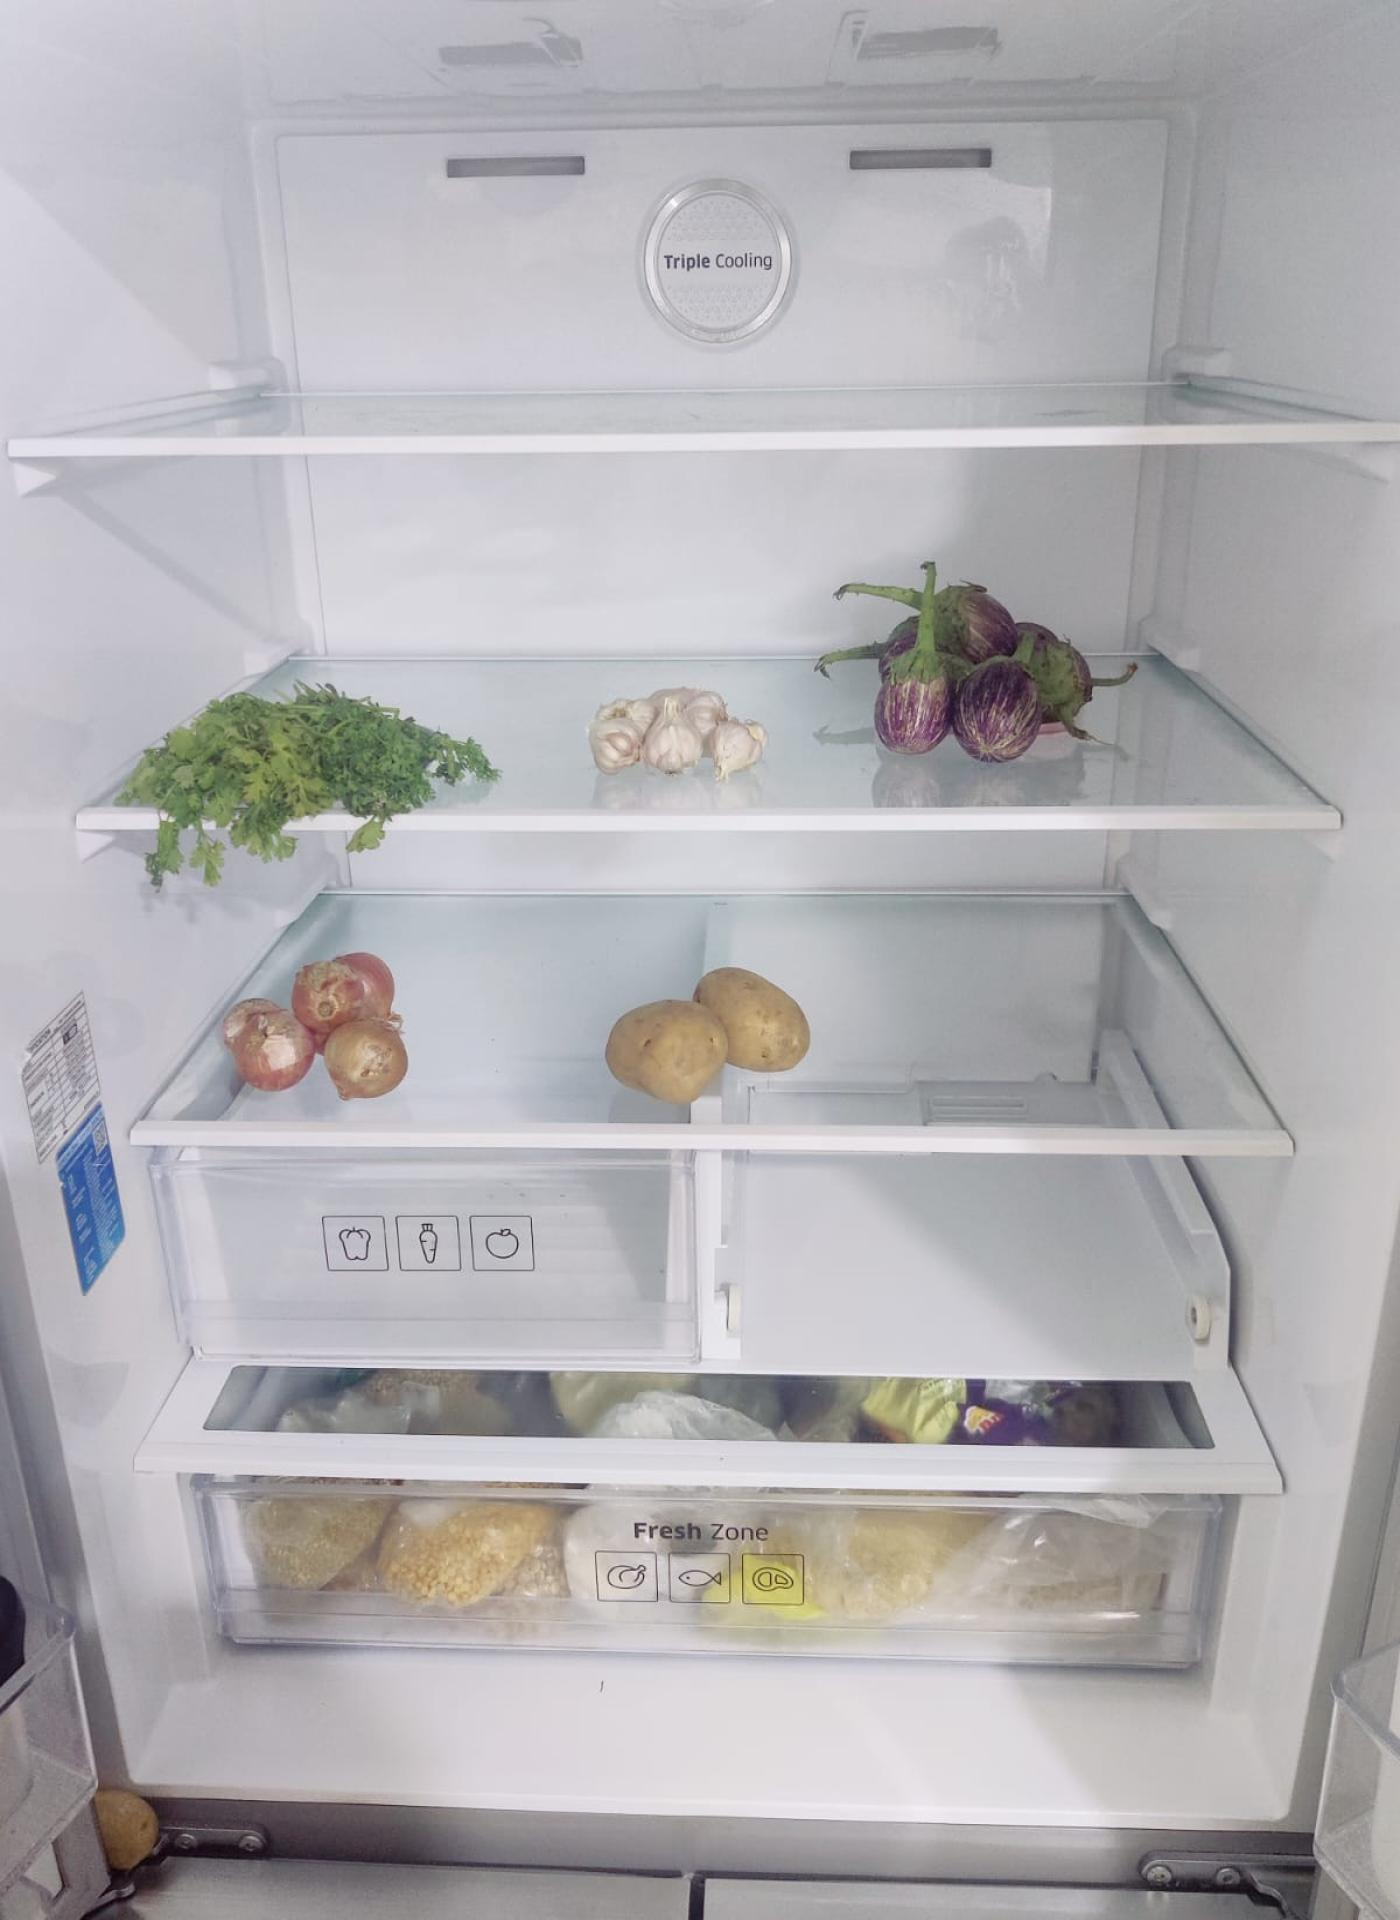brinjal: (833, 565, 1100, 754)
coriander: (122, 693, 495, 857)
garlic: (593, 675, 774, 772)
onion: (225, 954, 412, 1099)
potato: (602, 970, 811, 1109)
